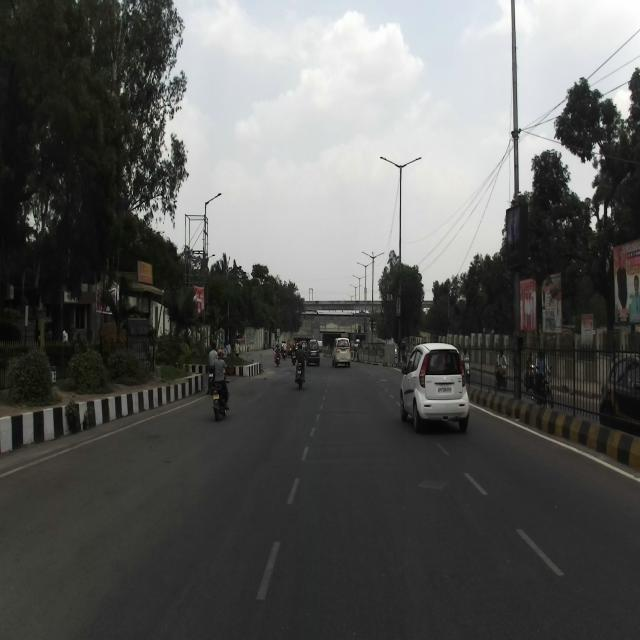car: (399, 341, 470, 431), (333, 337, 351, 368), (306, 339, 322, 366)
motorcycle: (210, 379, 228, 418), (294, 358, 305, 391)
